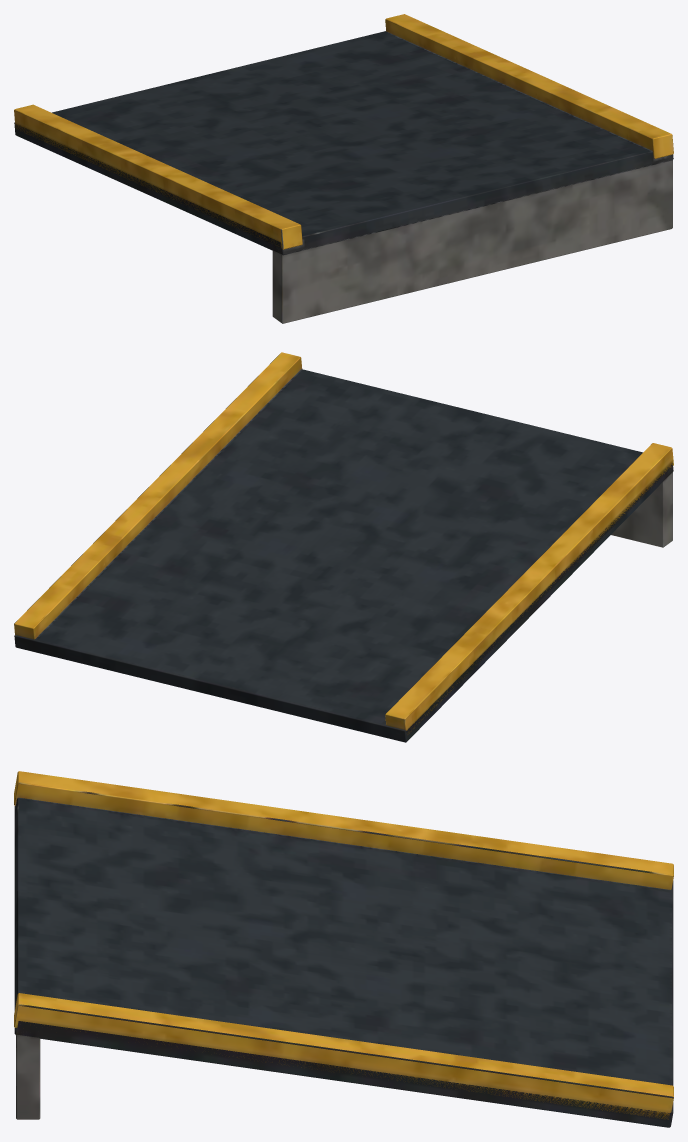
The model's file is ramp_wide_low.glb.
The picture shows the model from 3 angles, top to bottom: view 1: azimuth 30°, elevation 25°; view 2: azimuth 150°, elevation 25°; view 3: azimuth 270°, elevation 25°; orthographic projection. The views are drawn at different scales.
Visible parts, largest first — view 1: RampWideLow; view 2: RampWideLow; view 3: RampWideLow.
Boxes of the visible parts, x1,y1,x2,y2 form: RampWideLow: (14,14,673,323); RampWideLow: (14,352,673,742); RampWideLow: (14,771,673,1127).
Size of the model in its own units: 5.4 by 1.33 by 6.44.
1 material, 1 textured.
